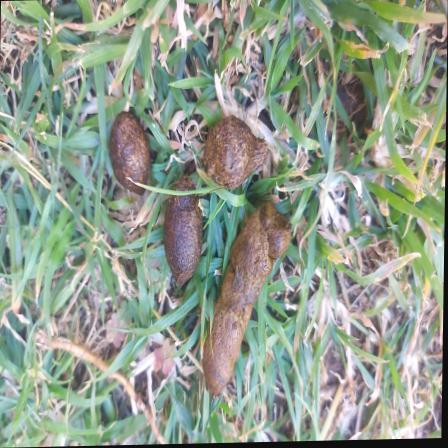dog-poop: (103, 103, 307, 406)
